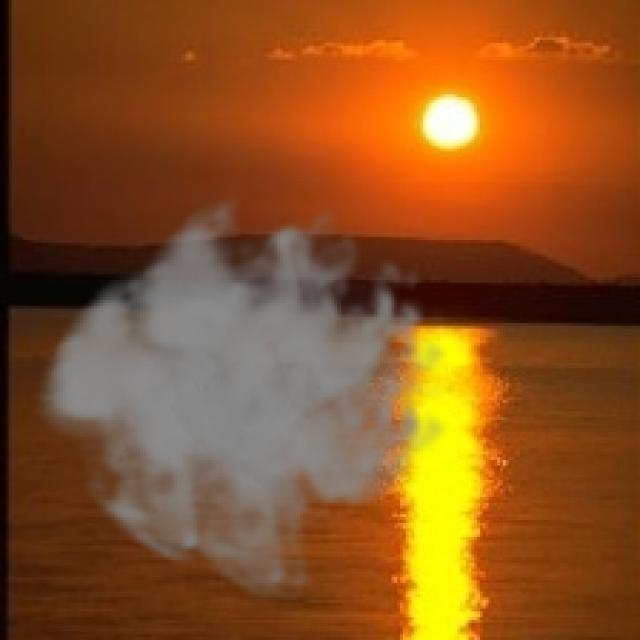Smoke: (34, 183, 449, 606)
